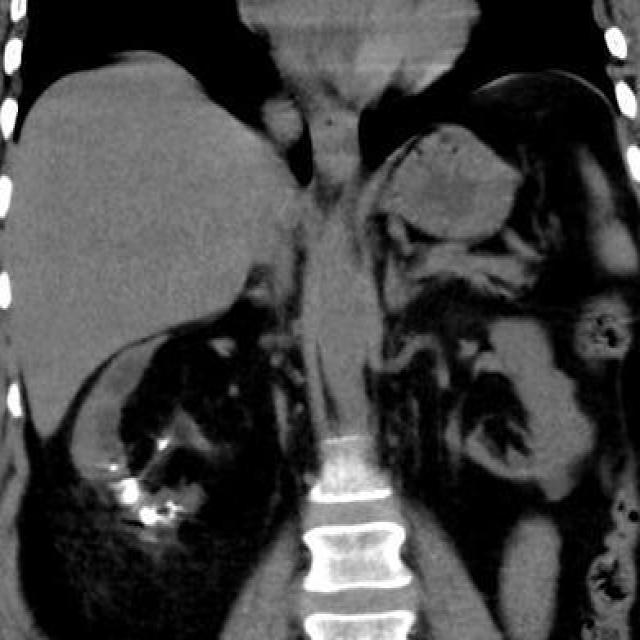Tas_Var: (138, 504, 162, 530), (119, 482, 141, 508), (156, 434, 173, 450), (108, 460, 121, 476), (120, 476, 137, 484), (171, 502, 181, 510), (168, 512, 176, 520), (166, 500, 173, 508)
